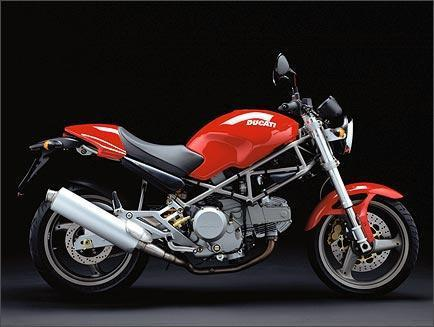motorcycle: (17, 43, 432, 304)
